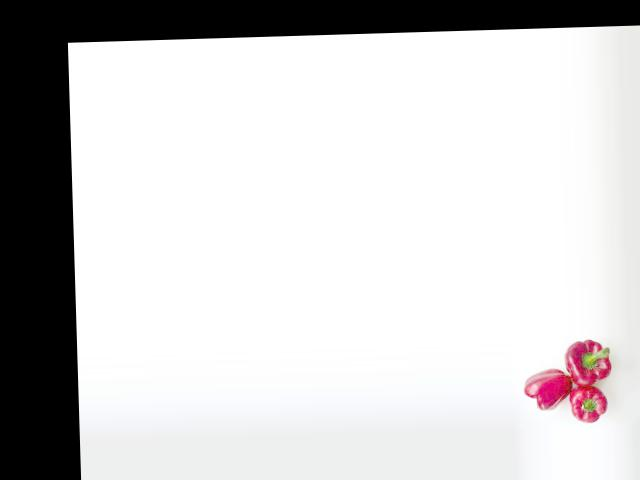bell_pepper: (517, 364, 574, 419)
